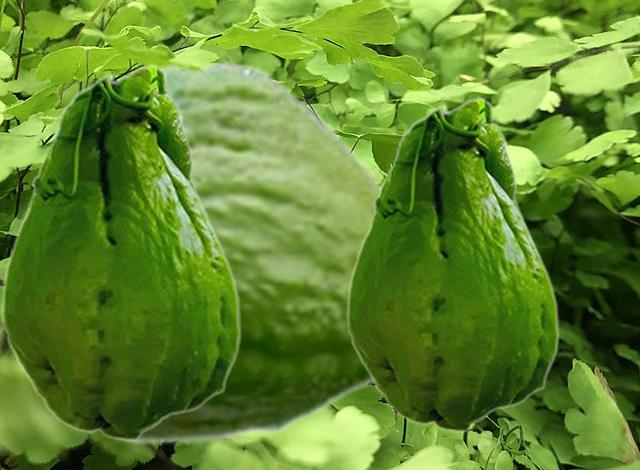sayote: (16, 58, 384, 446), (1, 63, 241, 441), (346, 96, 559, 432)
